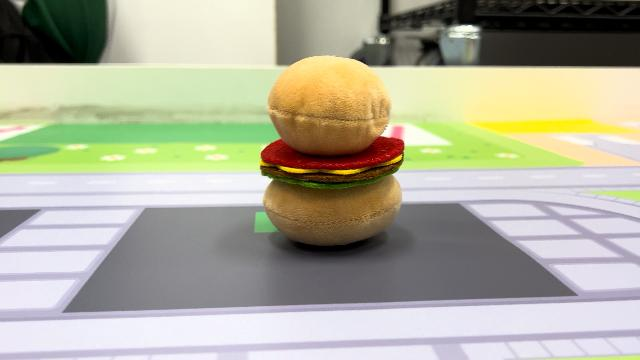burger: (254, 51, 410, 249)
